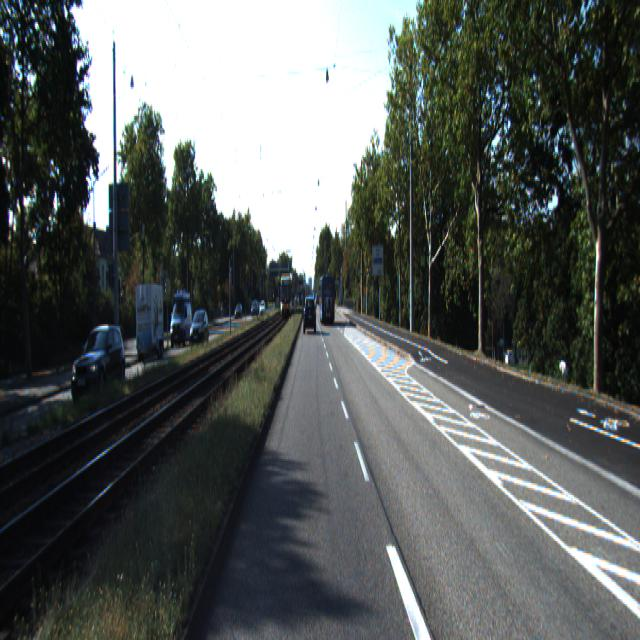Car: (70, 323, 128, 411), (135, 282, 165, 365), (169, 302, 193, 352), (188, 309, 210, 350), (319, 276, 336, 326), (304, 298, 316, 335)
